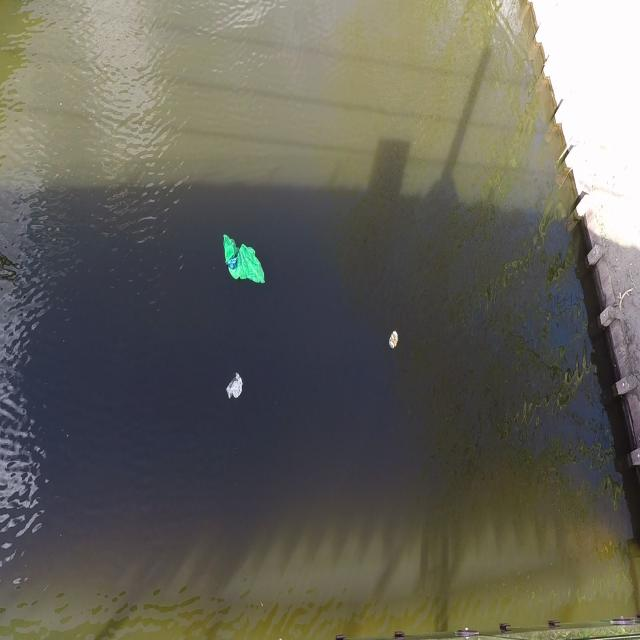Non plastique: (384, 329, 400, 356)
Sac plastique: (219, 226, 270, 290), (224, 370, 245, 410)
